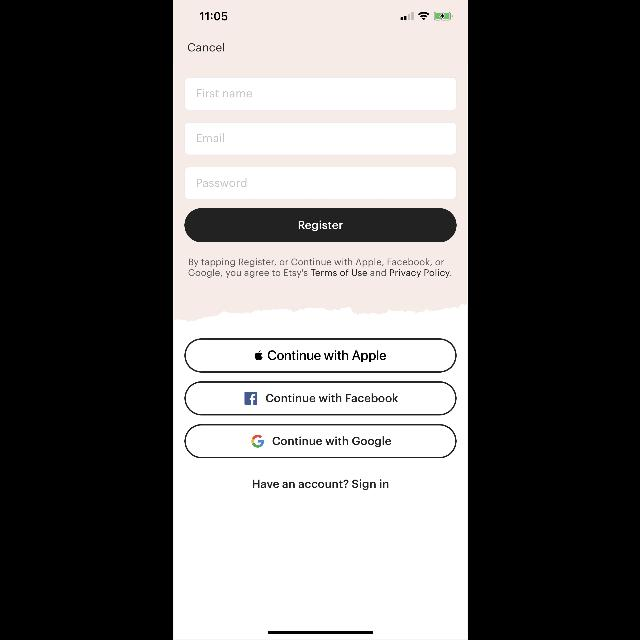input: (184, 122, 456, 156), (184, 167, 456, 199), (184, 78, 456, 110)
text: (188, 258, 450, 278), (252, 480, 388, 490), (196, 89, 252, 98), (196, 178, 246, 188), (187, 42, 223, 52), (196, 134, 224, 142)
textbutton: (184, 338, 456, 372), (184, 381, 456, 415), (184, 424, 456, 458), (184, 208, 456, 242)
uppertaskbar: (198, 12, 452, 21)
